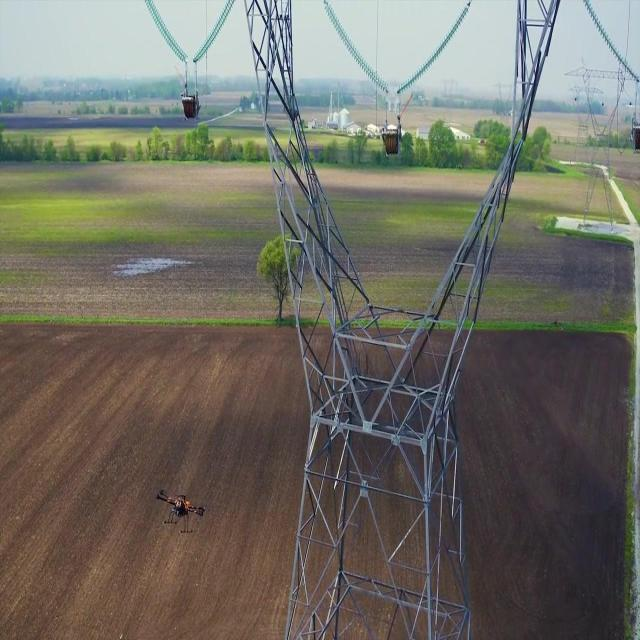drone: (153, 484, 209, 539)
